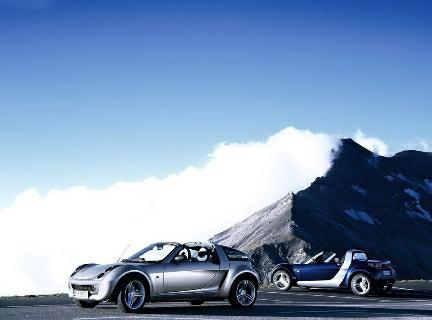smart-roadster: (80, 246, 257, 309)
